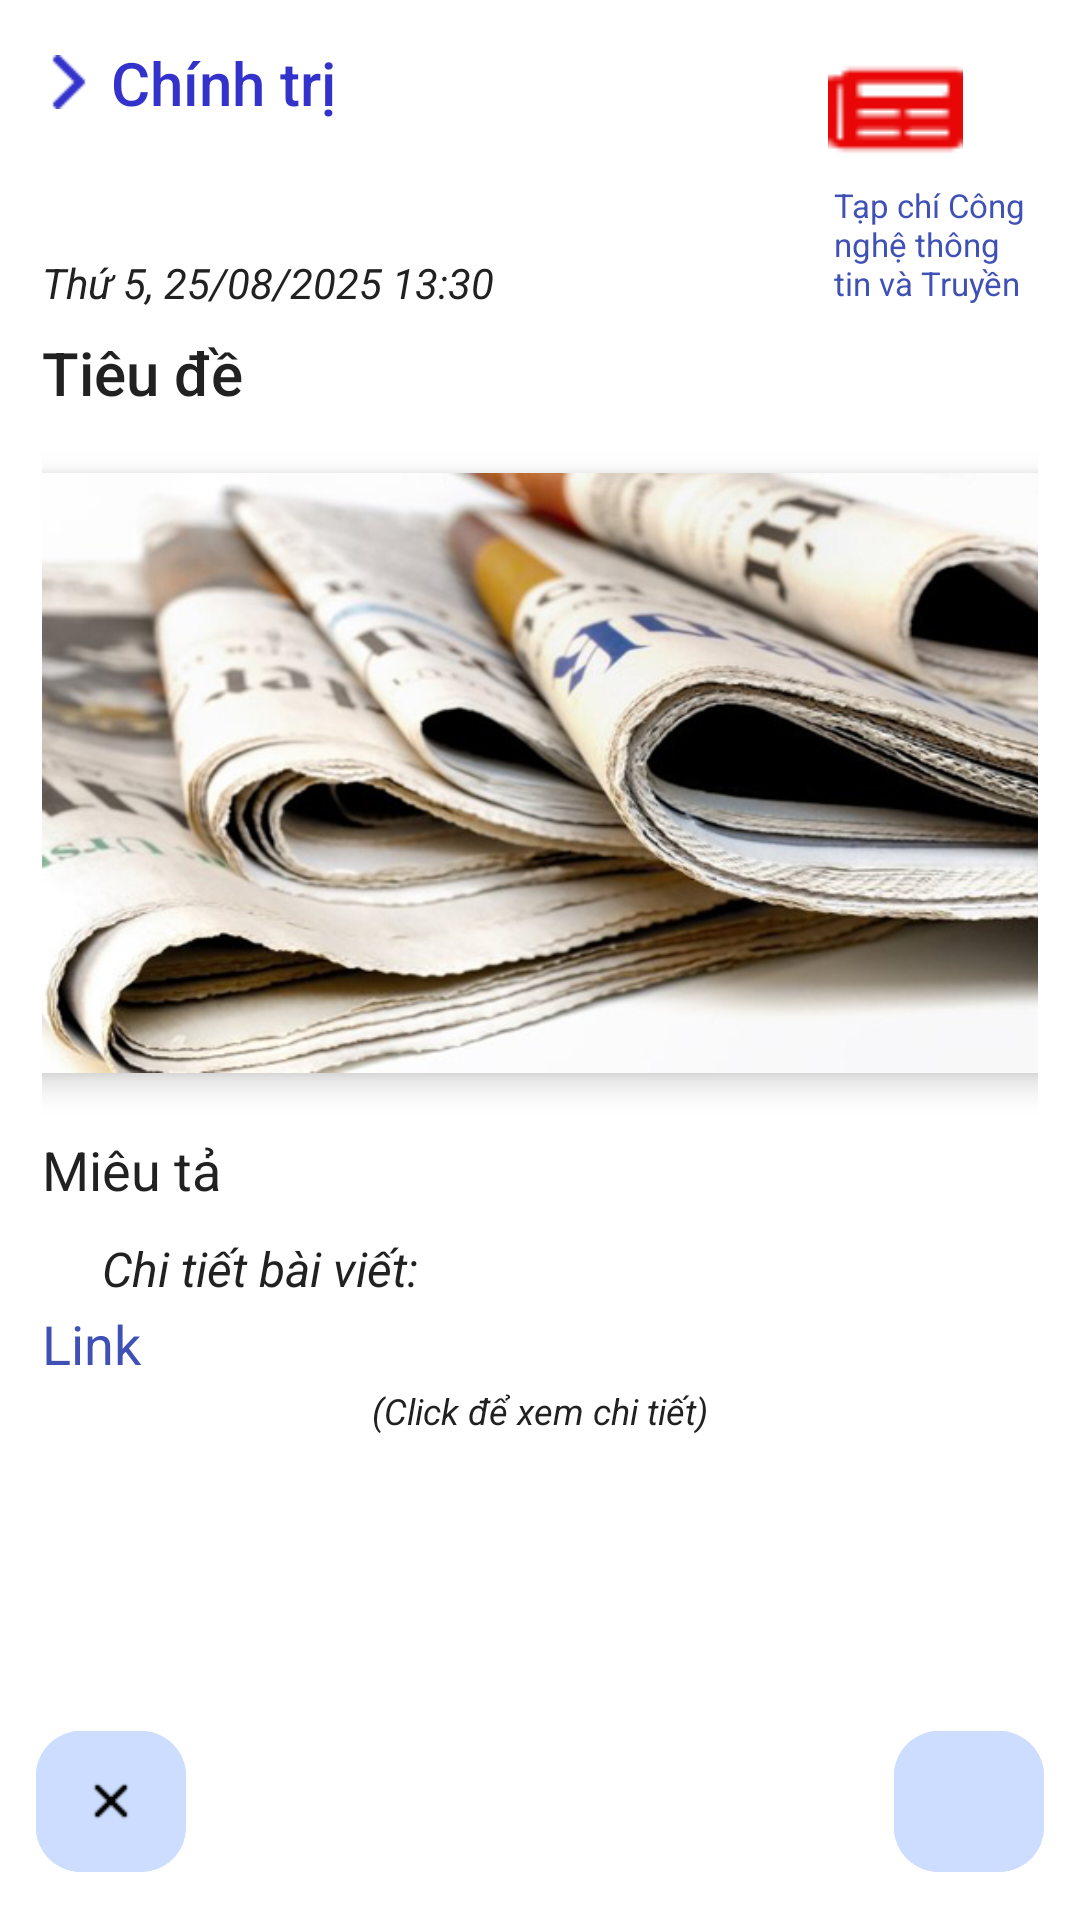

Icons on this 1080px×1920px Android screen, each with its box as (x1, y1, x2, y2):
close: (36, 1731, 186, 1872)
right arrow: (52, 55, 86, 109)
